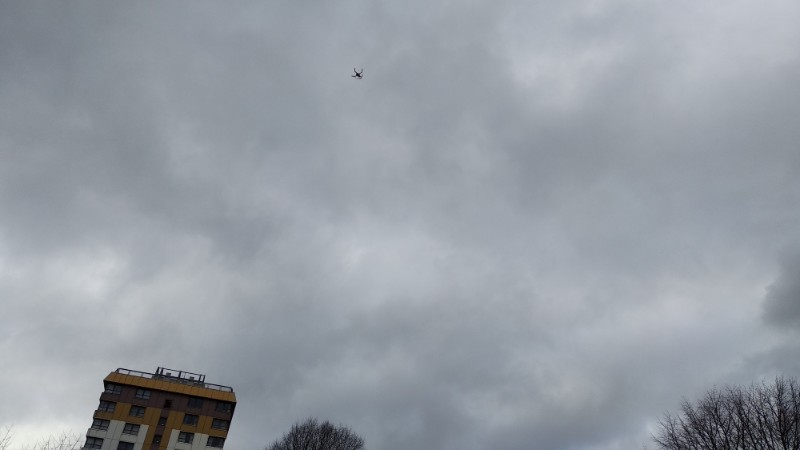drone: (349, 69, 365, 79)
